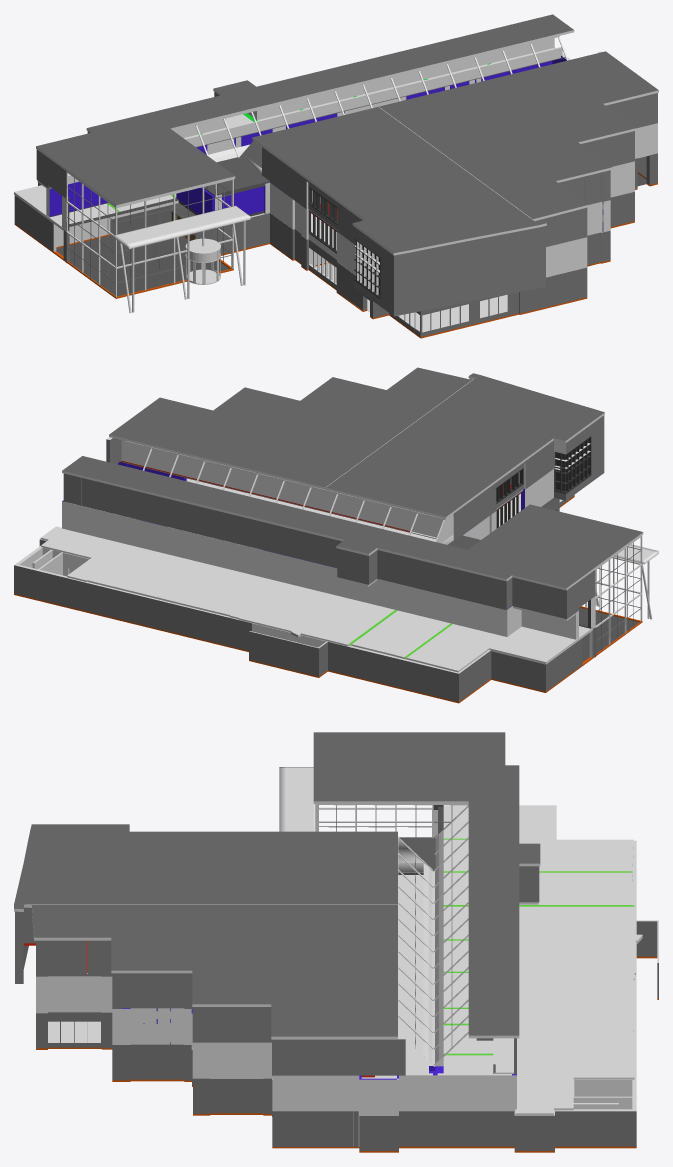
Rendered from FIN_Reception.fbx.
3 renders of one model, top to bottom at view 1: azimuth 30°, elevation 25°; view 2: azimuth 150°, elevation 25°; view 3: azimuth 270°, elevation 25°, orthographic. The views are drawn at different scales.
Parts seen in each view (by area): view 1: Cube.017, Cube.016, Cube.008, Cube.013, Cube.003, Cube.014, Cube.015, Cube.010, Cube.009, Cube.011, Cylinder, Cylinder.003; view 2: Cube.017, Cube.016, Cube.009, Cube.008, Cube.013, Cube.014, Cube.010, Cube.011, Cube.003, Cube.015; view 3: Cube.017, Cube.009, Cube.008, Cube.013, Cube.016, Cube.014, Cube.015, Cube.011, Cube.003.
Part boxes in pixels (<box>): Cube.017: <box>36,14,658,255</box>; Cube.016: <box>36,38,657,316</box>; Cube.008: <box>14,153,657,336</box>; Cube.013: <box>46,54,657,277</box>; Cube.003: <box>56,173,646,331</box>; Cube.014: <box>66,36,568,248</box>; Cube.015: <box>37,48,560,230</box>; Cube.010: <box>66,196,233,297</box>; Cube.009: <box>14,185,336,250</box>; Cube.011: <box>14,172,657,338</box>; Cylinder: <box>185,238,220,284</box>; Cylinder.003: <box>120,221,245,313</box>; Cube.017: <box>62,367,643,590</box>; Cube.016: <box>63,378,604,618</box>; Cube.009: <box>40,478,593,672</box>; Cube.008: <box>14,495,596,701</box>; Cube.013: <box>62,462,594,639</box>; Cube.014: <box>118,441,658,597</box>; Cube.010: <box>585,557,642,650</box>; Cube.011: <box>14,496,642,703</box>; Cube.003: <box>559,499,638,661</box>; Cube.015: <box>121,461,575,620</box>; Cube.017: <box>14,732,540,1039</box>; Cube.009: <box>361,805,642,1115</box>; Cube.008: <box>36,807,658,1150</box>; Cube.013: <box>36,805,516,1115</box>; Cube.016: <box>15,866,539,1075</box>; Cube.014: <box>279,767,468,1066</box>; Cube.015: <box>23,837,538,1077</box>; Cube.011: <box>36,956,658,1152</box>; Cube.003: <box>48,1021,493,1042</box>.
Size of the model in its own units: 19352 by 3468 by 17043.
